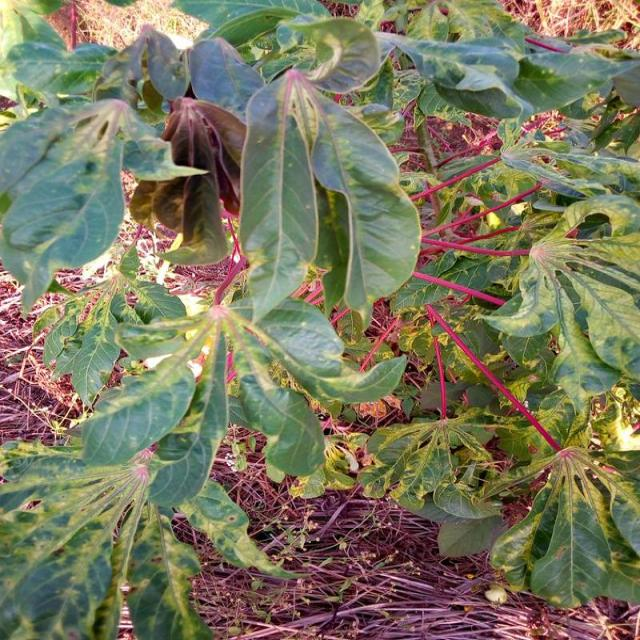cassava leaf: (0, 1, 638, 637), (236, 66, 422, 332)
